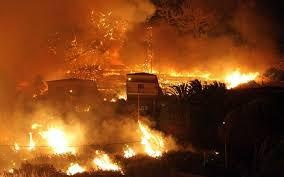fire: (22, 121, 78, 154), (130, 120, 166, 158)
